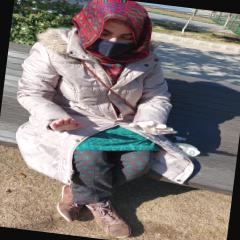gloved: (131, 119, 176, 138)
not-gloved: (50, 118, 82, 134)
